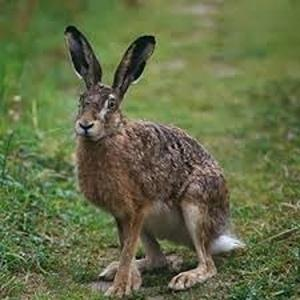rabbit: (65, 25, 244, 294)
